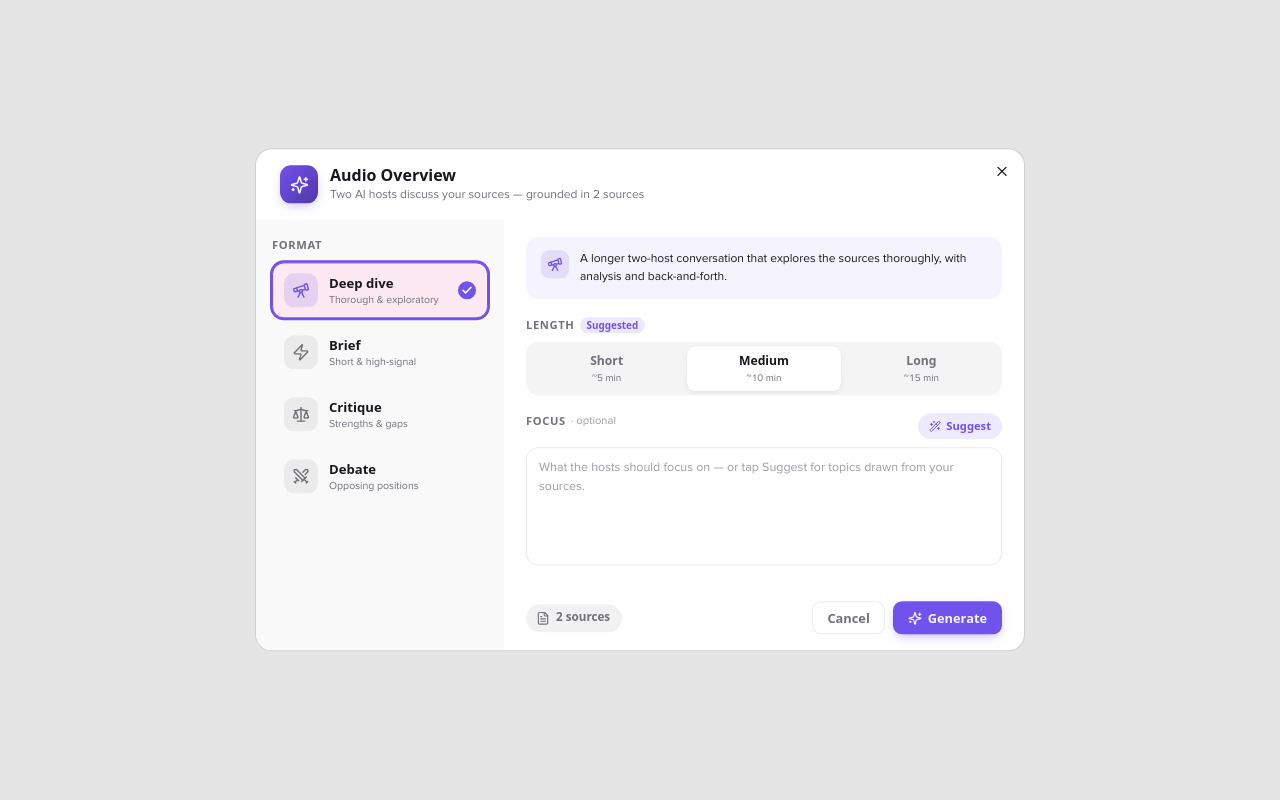
Scenario: AudioOverviewSetup — focus › Suggest fills the focus field from the AI suggestion command
Click the button "Suggest": click(960, 426) [918, 413, 1002, 439]
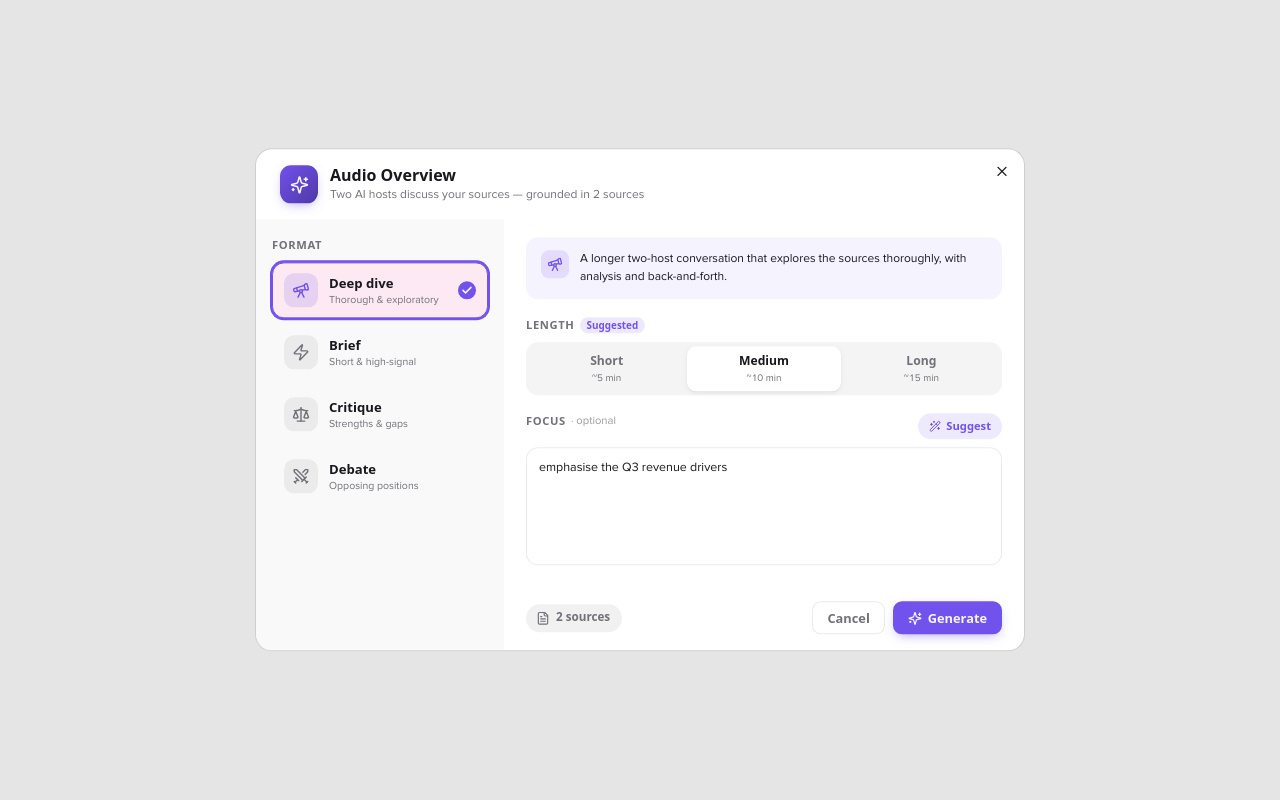
Expected: the text box showing "emphasise the Q3 revenue drivers" is shown, [526, 447, 1002, 566]
